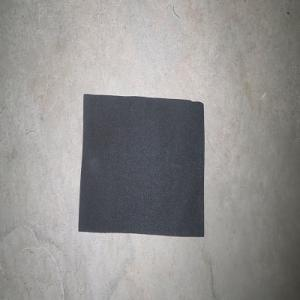PaintChip: (78, 93, 204, 237)
